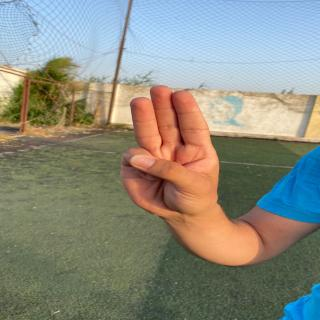THA: (116, 82, 238, 231)
